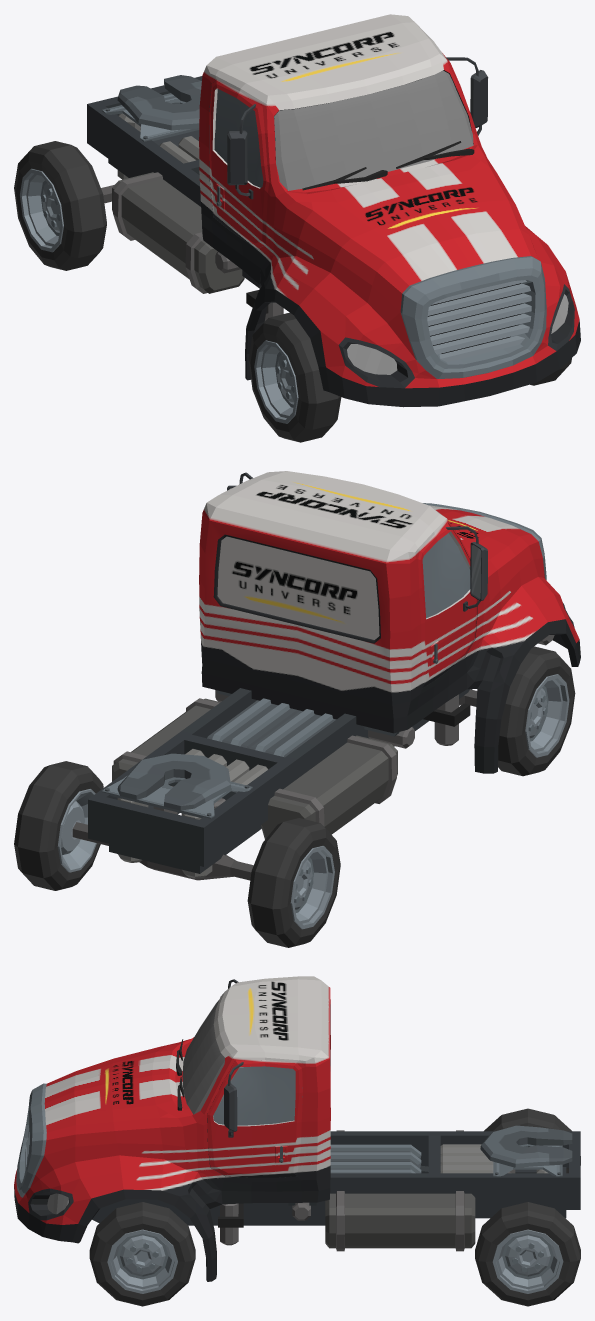
File: SM_Veh_Truck_01.fbx
3 renders of one model, top to bottom at view 1: azimuth 30°, elevation 25°; view 2: azimuth 150°, elevation 25°; view 3: azimuth 270°, elevation 25°, orthographic. The views are drawn at different scales.
Visible parts, largest first — view 1: SM_Veh_Truck_01, SM_Veh_Truck_01_Wheel_RR, SM_Veh_Truck_01_Wheel_FR, SM_Veh_Truck_01_Door_R, SM_Veh_Truck_01_Mirror_R, SM_Veh_Truck_01_Mirror_L; view 2: SM_Veh_Truck_01, SM_Veh_Truck_01_Wheel_RR, SM_Veh_Truck_01_Wheel_RL, SM_Veh_Truck_01_Wheel_FR, SM_Veh_Truck_01_Door_R, SM_Veh_Truck_01_Mirror_R; view 3: SM_Veh_Truck_01, SM_Veh_Truck_01_Door_L, SM_Veh_Truck_01_Wheel_FL, SM_Veh_Truck_01_Wheel_RL, SM_Veh_Truck_01_Wheel_RR, SM_Veh_Truck_01_Mirror_L.
Part boxes in pixels (x1,y1,x2,y2): SM_Veh_Truck_01: [87, 14, 580, 407]; SM_Veh_Truck_01_Wheel_RR: [14, 141, 106, 270]; SM_Veh_Truck_01_Wheel_FR: [248, 312, 341, 442]; SM_Veh_Truck_01_Door_R: [209, 80, 269, 248]; SM_Veh_Truck_01_Mirror_R: [227, 104, 255, 199]; SM_Veh_Truck_01_Mirror_L: [446, 57, 488, 135]; SM_Veh_Truck_01: [72, 471, 580, 880]; SM_Veh_Truck_01_Wheel_RR: [247, 818, 340, 947]; SM_Veh_Truck_01_Wheel_RL: [14, 761, 103, 890]; SM_Veh_Truck_01_Wheel_FR: [498, 646, 575, 776]; SM_Veh_Truck_01_Door_R: [418, 523, 477, 687]; SM_Veh_Truck_01_Mirror_R: [446, 526, 487, 611]; SM_Veh_Truck_01: [14, 976, 580, 1281]; SM_Veh_Truck_01_Door_L: [207, 1060, 302, 1177]; SM_Veh_Truck_01_Wheel_FL: [89, 1202, 195, 1306]; SM_Veh_Truck_01_Wheel_RL: [475, 1202, 580, 1306]; SM_Veh_Truck_01_Wheel_RR: [484, 1108, 580, 1173]; SM_Veh_Truck_01_Mirror_L: [224, 1062, 243, 1137].
Size of the model in its own units: 277 by 287 by 609.
